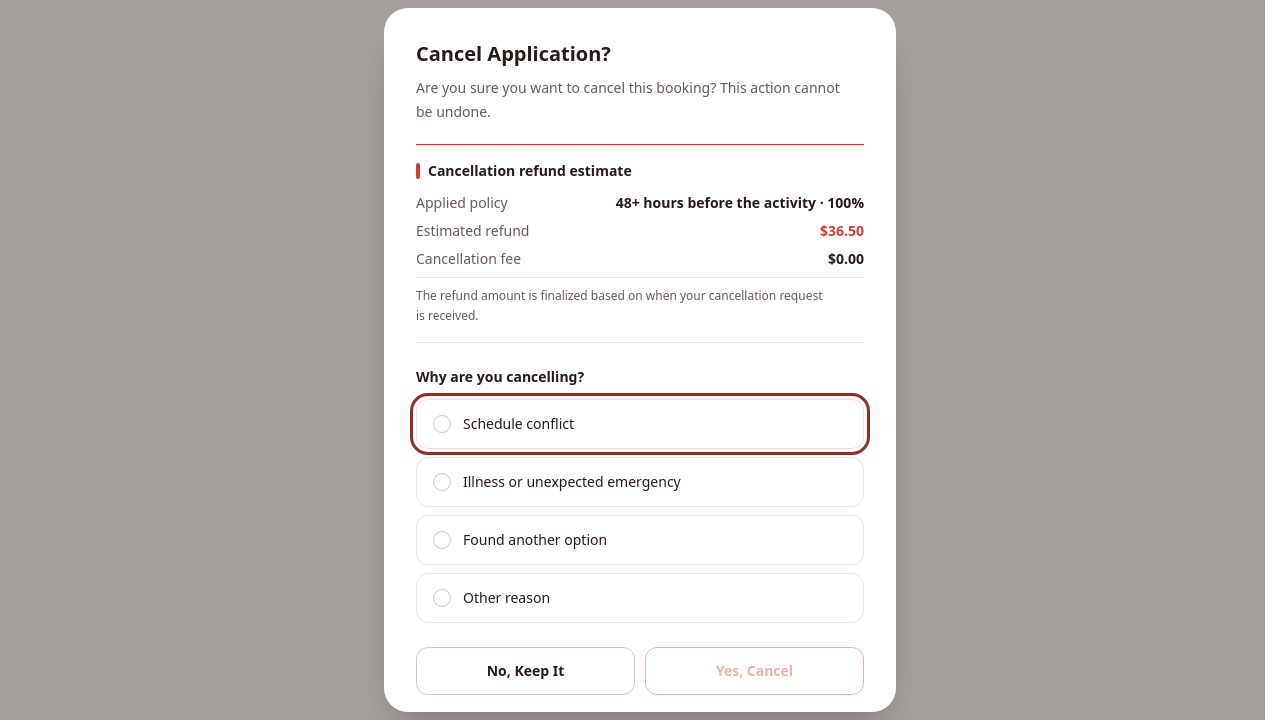
Test case: CancelDialog › keeps cancellation disabled and retries when the quote fails
Click the button "Schedule conflict": (519, 424) [416, 399, 864, 449]
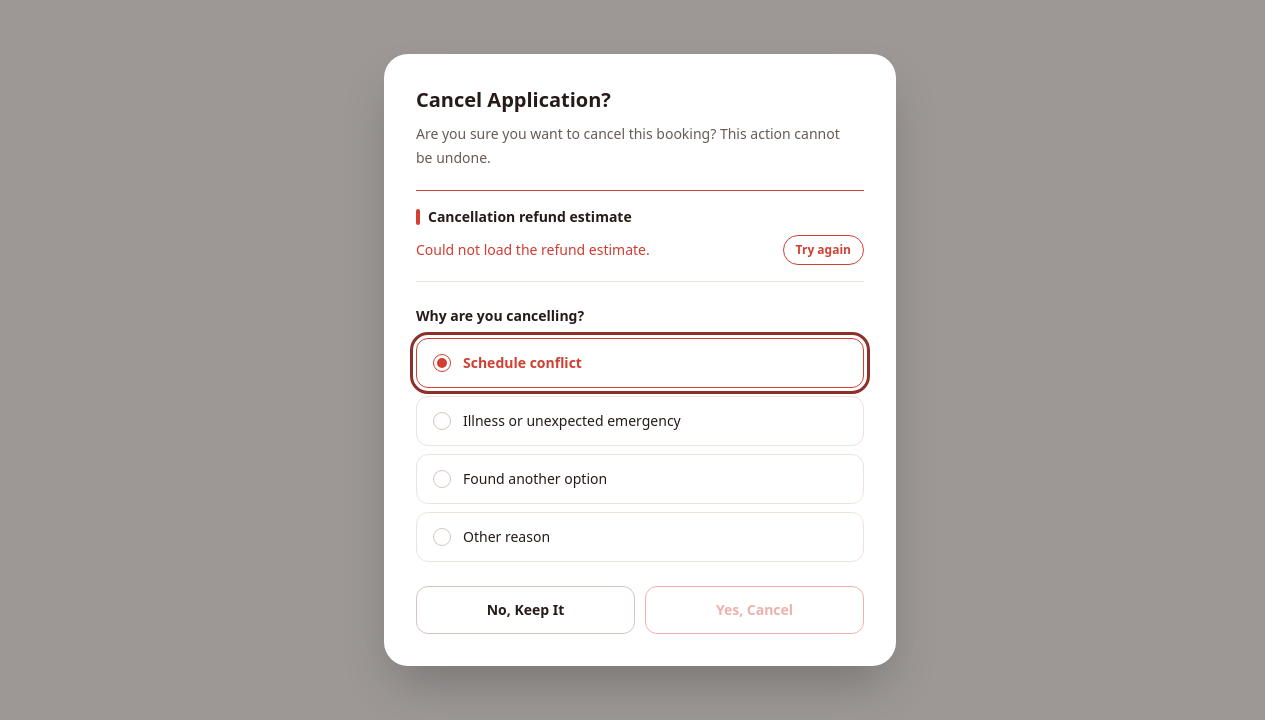
Expected: the button "Yes, Cancel" is disabled, [645, 586, 864, 634]
Expected: the text "Could not load the refund estimate." is shown, [416, 240, 650, 260]
Click the button "Try again": (823, 250) [783, 235, 864, 265]
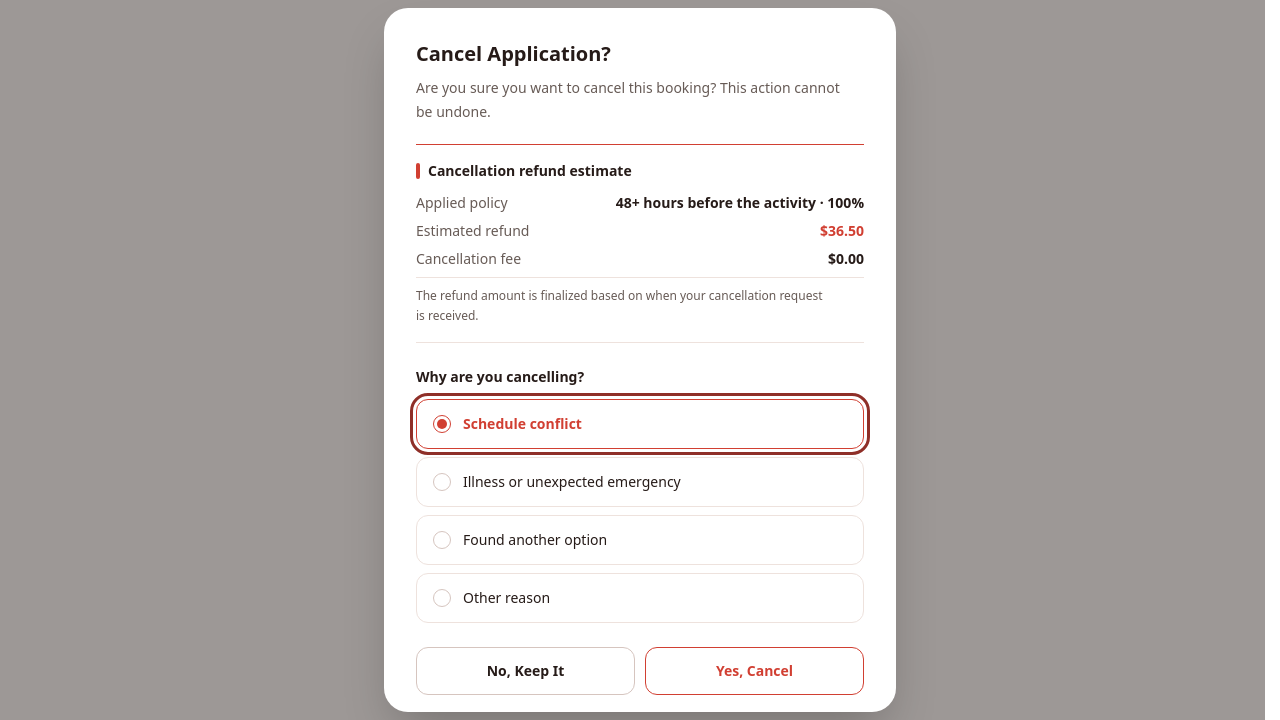
Expected: the button "Yes, Cancel" is enabled, [645, 647, 864, 695]
